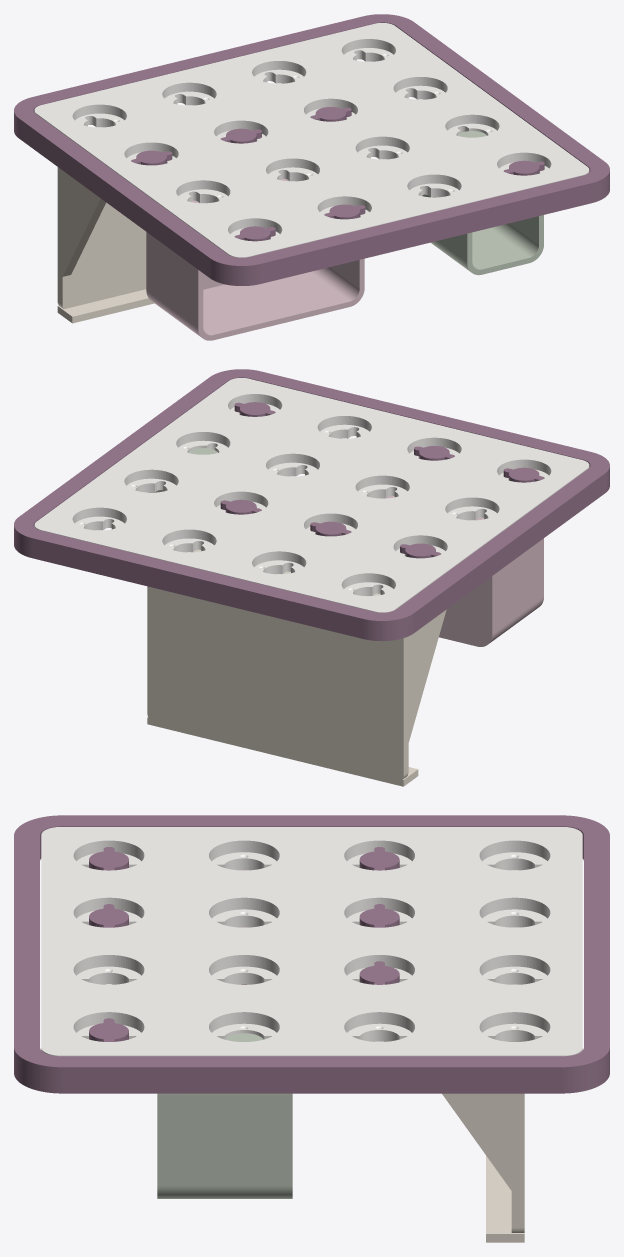
The model's file is wall-station.glb.
The picture shows the model from 3 angles, top to bottom: view 1: azimuth 30°, elevation 25°; view 2: azimuth 150°, elevation 25°; view 3: azimuth 270°, elevation 25°; orthographic projection. The views are drawn at different scales.
Parts seen in each view (by area): view 1: wall-panel-4x4__1, wall-decorative-border__2, wall-pocket-2__3, wall-ledge-3__8, wall-pocket-1__6, turn-key-clearance__9, turn-key-clearance__5, turn-key-clearance__11, turn-key-clearance__10, turn-key-clearance__4, turn-key-clearance__7; view 2: wall-panel-4x4__1, wall-ledge-3__8, wall-decorative-border__2, wall-pocket-2__3; view 3: wall-panel-4x4__1, wall-decorative-border__2, wall-pocket-1__6, wall-ledge-3__8, turn-key-clearance__10, turn-key-clearance__9, turn-key-clearance__11, turn-key-clearance__4, turn-key-clearance__5, turn-key-clearance__7.
Boxes of the visible parts, left/top/right/bottom form: wall-panel-4x4__1: left=34, top=23, right=589, bottom=257; wall-decorative-border__2: left=14, top=14, right=609, bottom=285; wall-pocket-2__3: left=146, top=178, right=364, bottom=340; wall-ledge-3__8: left=57, top=167, right=154, bottom=323; wall-pocket-1__6: left=422, top=131, right=543, bottom=275; turn-key-clearance__9: left=131, top=150, right=172, bottom=165; turn-key-clearance__5: left=324, top=204, right=365, bottom=219; turn-key-clearance__11: left=310, top=107, right=351, bottom=121; turn-key-clearance__10: left=220, top=128, right=261, bottom=143; turn-key-clearance__4: left=234, top=226, right=275, bottom=241; turn-key-clearance__7: left=503, top=160, right=544, bottom=175; wall-panel-4x4__1: left=34, top=378, right=589, bottom=612; wall-ledge-3__8: left=147, top=549, right=446, bottom=786; wall-decorative-border__2: left=14, top=369, right=609, bottom=641; wall-pocket-2__3: left=380, top=496, right=543, bottom=646; wall-panel-4x4__1: left=41, top=827, right=582, bottom=1056; wall-decorative-border__2: left=14, top=815, right=609, bottom=1093; wall-pocket-1__6: left=157, top=1033, right=292, bottom=1198; wall-ledge-3__8: left=442, top=870, right=524, bottom=1242; turn-key-clearance__10: left=359, top=904, right=399, bottom=927; turn-key-clearance__9: left=359, top=847, right=399, bottom=870; turn-key-clearance__11: left=359, top=961, right=399, bottom=984; turn-key-clearance__4: left=89, top=847, right=128, bottom=870; turn-key-clearance__5: left=89, top=904, right=128, bottom=927; turn-key-clearance__7: left=89, top=1018, right=128, bottom=1041.
Size of the model in its own units: 0.185 by 0.085 by 0.185.
